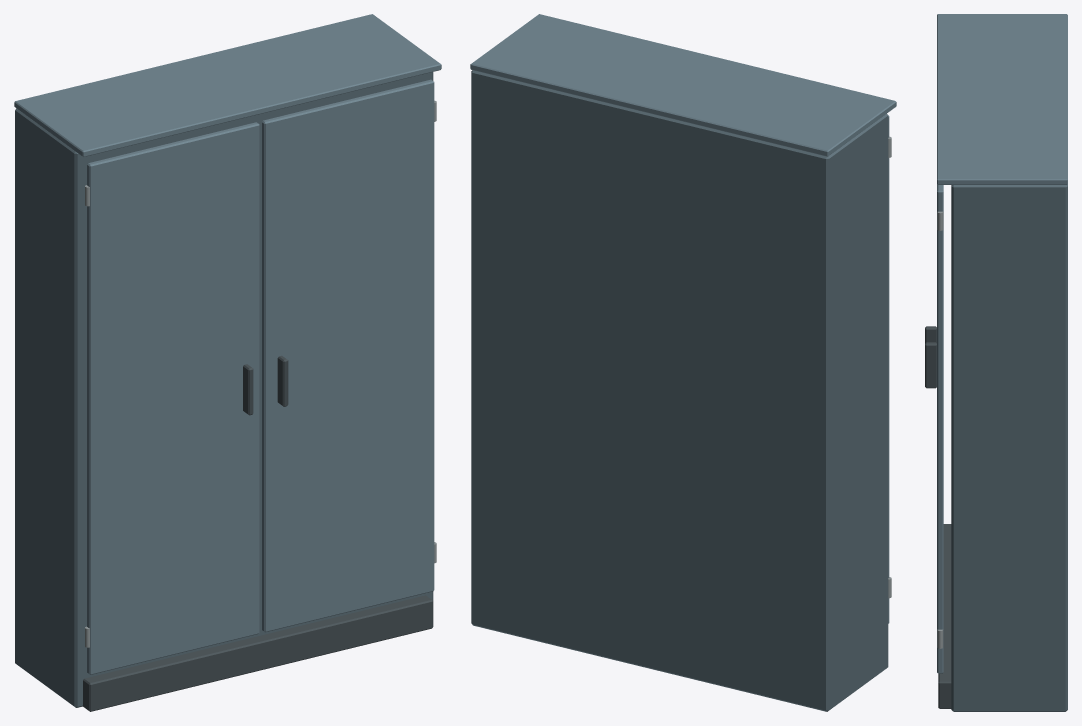
File: Cabinet.fbx
3 views of the same model, side by side, from view 1: azimuth 30°, elevation 25°; view 2: azimuth 150°, elevation 25°; view 3: azimuth 270°, elevation 25° (orthographic). The views are drawn at different scales.
Visible parts, largest first — view 1: MR_Cabinet_CabinetHingeLeft, MR_Cabinet_CabinetHingeRight, MR_Cabinet_Body; view 2: MR_Cabinet_Body, MR_Cabinet_CabinetHingeLeft; view 3: MR_Cabinet_Body, MR_Cabinet_CabinetHingeRight.
Boxes of the visible parts, bbox=[...] form: MR_Cabinet_CabinetHingeLeft: bbox=[85, 122, 259, 674]; MR_Cabinet_CabinetHingeRight: bbox=[262, 79, 436, 632]; MR_Cabinet_Body: bbox=[14, 14, 441, 711]; MR_Cabinet_Body: bbox=[470, 14, 896, 711]; MR_Cabinet_CabinetHingeLeft: bbox=[888, 115, 891, 623]; MR_Cabinet_Body: bbox=[937, 14, 1067, 711]; MR_Cabinet_CabinetHingeRight: bbox=[925, 184, 943, 673].
Bounding box in the file's own units: 1.2 × 1.8 × 0.4365.
